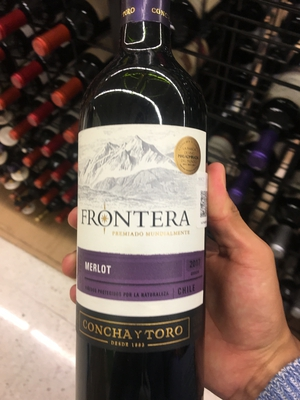frontera merlot: (69, 6, 220, 397)
